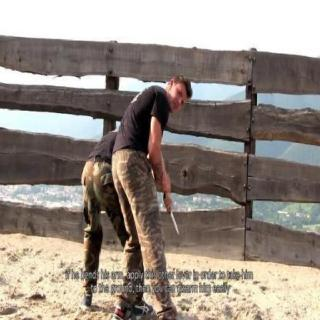knife: (162, 193, 182, 239)
